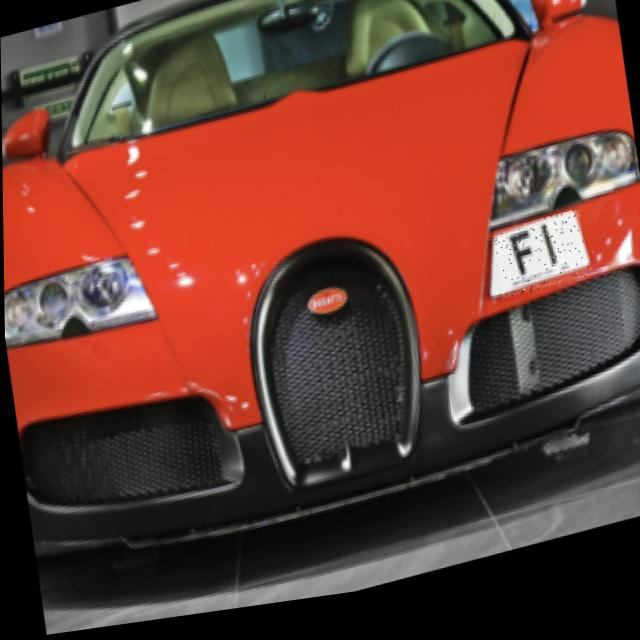license_plate: (492, 224, 587, 314)
